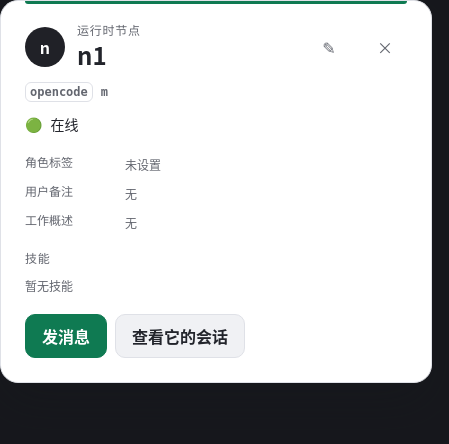
ContactCard 编辑态 ✎ 占位（修3） › 非编辑态有 contact-rename；编辑态 testid 卸载但占位保留、contact-close 始终在
Click the button with test id "contact-rename".
click(329, 47)  # box [307,25,351,69]
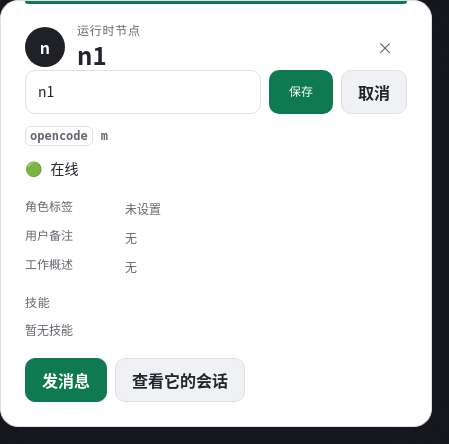
Expected: the button with test id "contact-close" is shown, [363,25,407,69]
Now the button with test id "contact-rename" is gone
